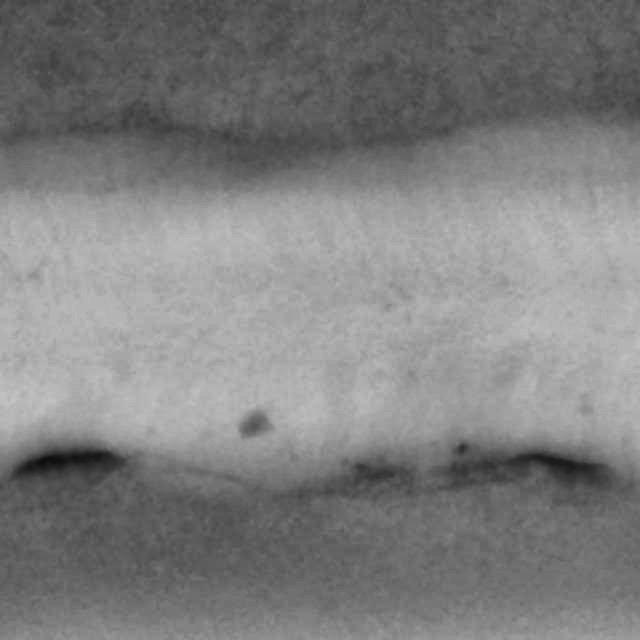LoP-LoF: (3, 436, 635, 531)
Pore: (220, 395, 287, 443)
